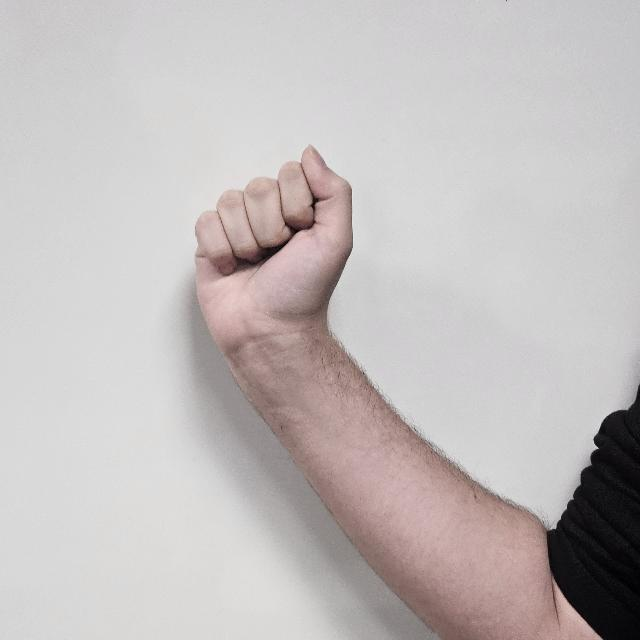Quadro: (196, 138, 354, 362)
